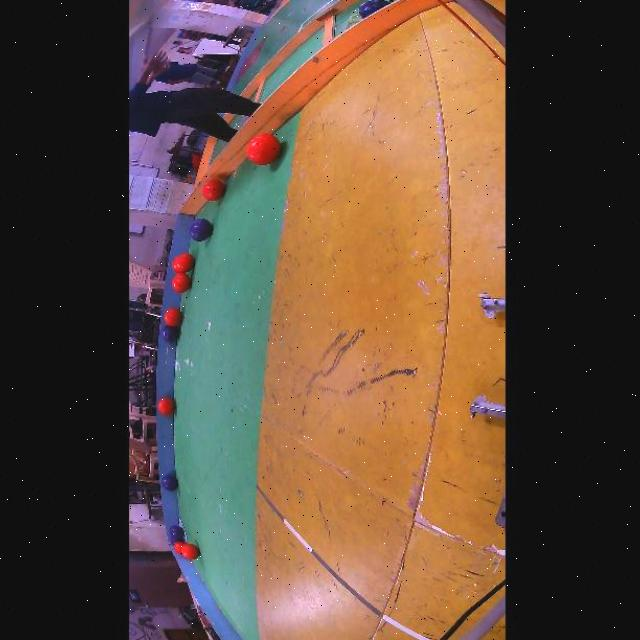P: (187, 218, 211, 242), (357, 0, 387, 18), (160, 325, 177, 342), (160, 476, 176, 491), (168, 525, 182, 540), (168, 538, 181, 544)
R: (245, 134, 279, 166), (200, 179, 223, 201), (170, 273, 190, 293), (162, 308, 181, 327), (179, 544, 198, 561), (156, 397, 173, 415), (172, 542, 183, 555)
